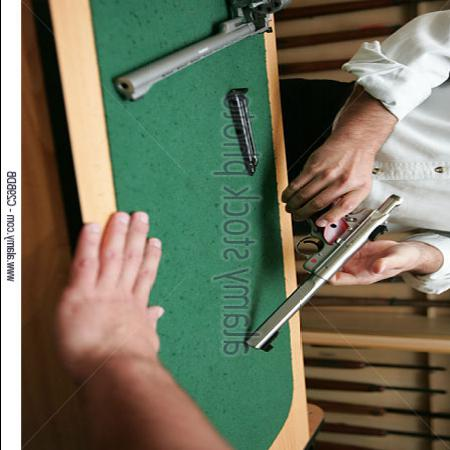Pistol: (236, 159, 412, 358), (112, 4, 328, 108)
